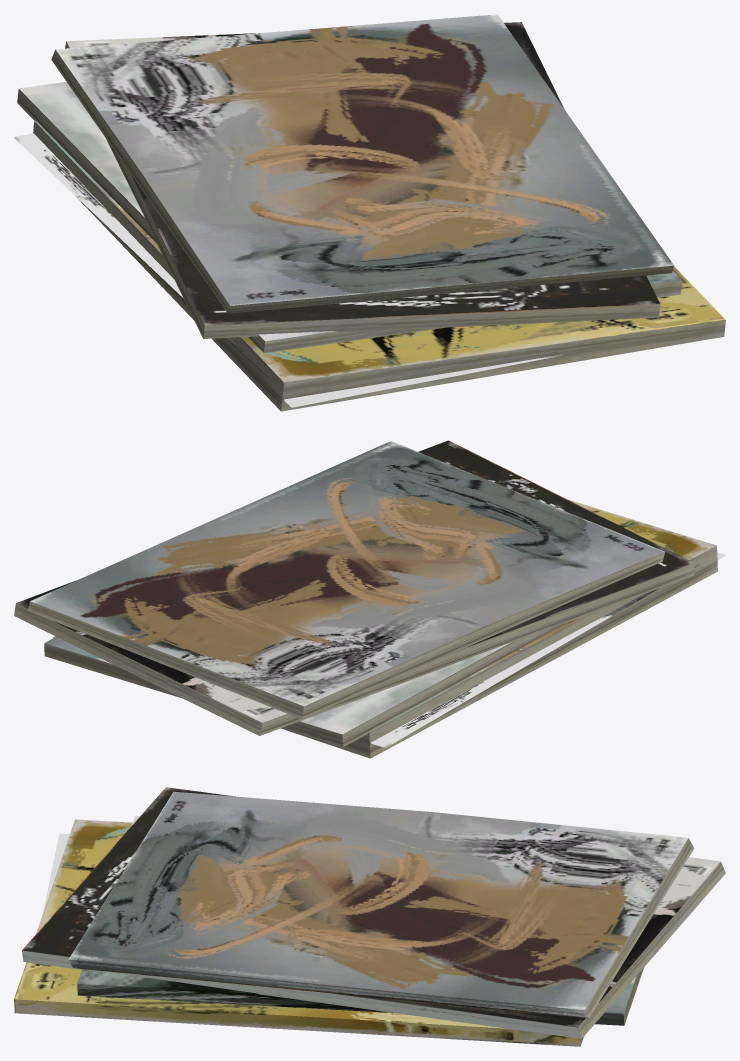
File: magazine_pile02_wau.dae
3 views of the same model, one above another, from view 1: azimuth 30°, elevation 25°; view 2: azimuth 150°, elevation 25°; view 3: azimuth 270°, elevation 25° (orthographic). The views are drawn at different scales.
Parts seen in each view (by area): view 1: magazine_pile02; view 2: magazine_pile02; view 3: magazine_pile02.
Part boxes in pixels (box(x1,y1,x2,y2)): magazine_pile02: box(14, 14, 725, 411); magazine_pile02: box(14, 440, 725, 758); magazine_pile02: box(14, 787, 725, 1046).
Size of the model in its own units: 21.61 by 2.61 by 27.79.
